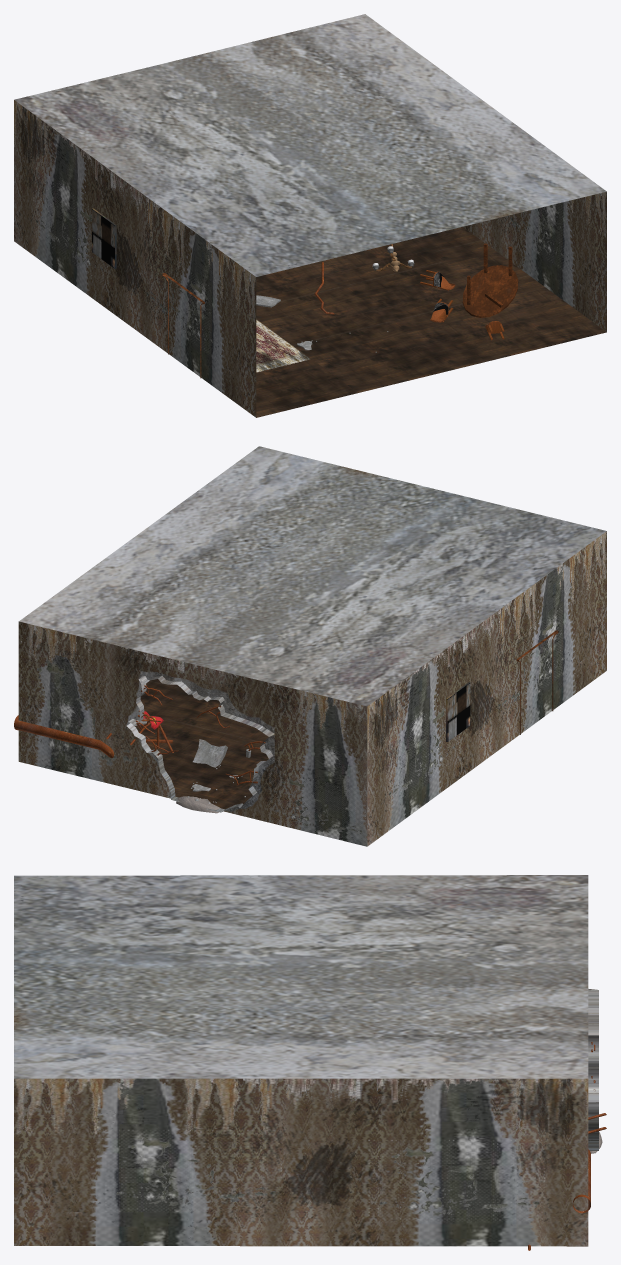
File: Room1.FBX
3 views of the same model, one above another, from view 1: azimuth 30°, elevation 25°; view 2: azimuth 150°, elevation 25°; view 3: azimuth 270°, elevation 25° (orthographic). The views are drawn at different scales.
Visible parts, largest first — view 1: Box01, Cylinder05, Plane01; view 2: Box01, Cylinder37, Box22; view 3: Box01.
Part boxes in pixels (x1,y1,x2,y2): Box01: [14, 14, 606, 417]; Cylinder05: [462, 243, 518, 317]; Plane01: [256, 319, 310, 372]; Box01: [18, 446, 606, 846]; Cylinder37: [14, 685, 265, 785]; Box22: [131, 718, 245, 813]; Box01: [14, 875, 598, 1246].
Bounding box in the file's own units: 49.43 × 21.34 × 59.42.
8 materials, 8 textured.
